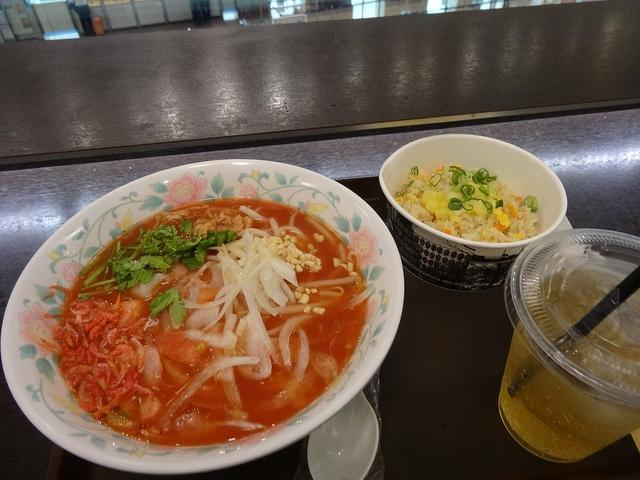onion: (216, 250, 282, 368), (162, 356, 260, 431), (233, 312, 272, 380), (278, 314, 314, 373), (217, 366, 243, 411), (260, 272, 288, 307), (292, 326, 310, 376), (184, 305, 220, 329), (241, 228, 272, 249), (272, 254, 296, 279), (258, 262, 272, 283), (247, 256, 261, 277), (228, 246, 248, 259), (255, 245, 266, 258), (237, 257, 246, 267)
